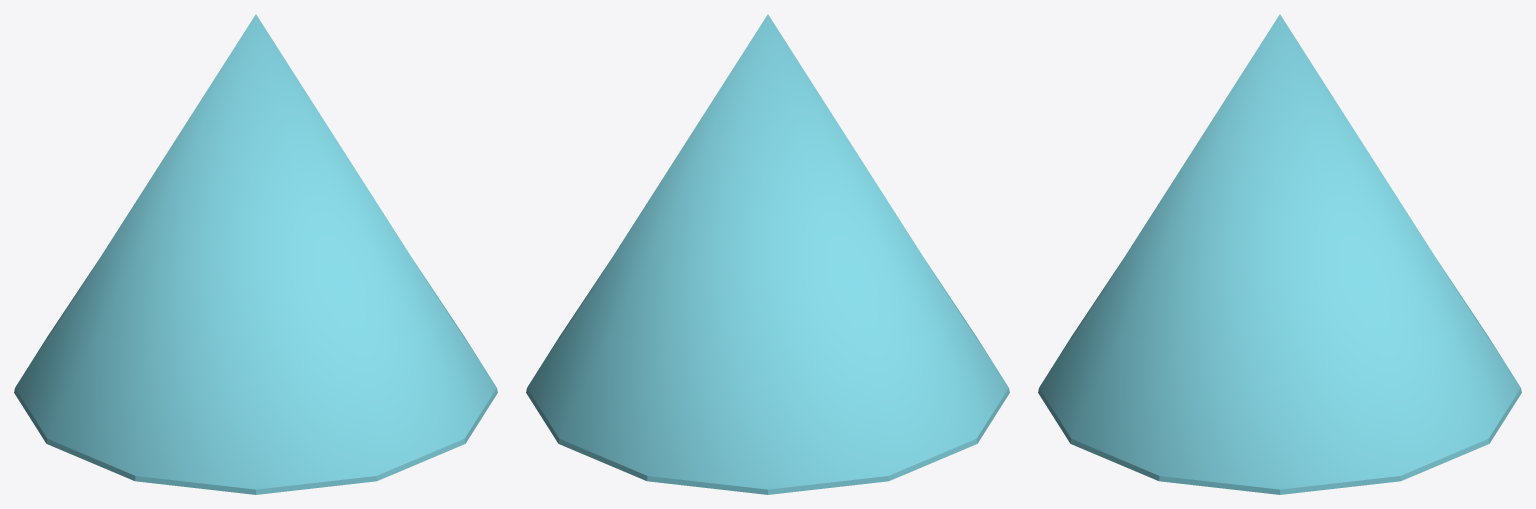
The model's file is Beem.fbx.
3 views of the same model, side by side, from view 1: azimuth 30°, elevation 25°; view 2: azimuth 150°, elevation 25°; view 3: azimuth 270°, elevation 25° (orthographic).
Parts seen in each view (by area): view 1: Beem; view 2: Beem; view 3: Beem.
Part boxes in pixels (x1=…): Beem: x1=14, y1=14, x2=497, y2=494; Beem: x1=526, y1=14, x2=1009, y2=494; Beem: x1=1038, y1=14, x2=1521, y2=494.
Size of the model in its own units: 2.32 by 2 by 2.32.
